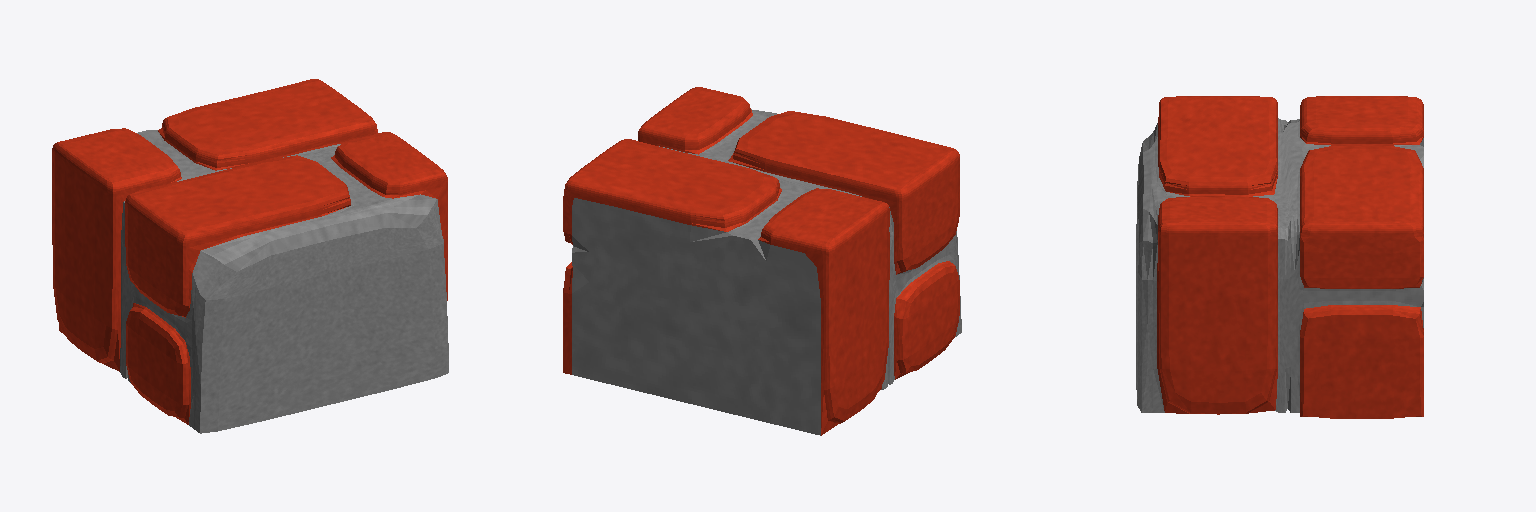
3 renders of one model, left to right at view 1: azimuth 30°, elevation 25°; view 2: azimuth 150°, elevation 25°; view 3: azimuth 270°, elevation 25°, orthographic.
Parts seen in each view (by area): view 1: Cube; view 2: Cube; view 3: Cube.
Part boxes in pixels (bbox=[...]): Cube: bbox=[52, 79, 448, 433]; Cube: bbox=[563, 87, 961, 435]; Cube: bbox=[1136, 96, 1423, 418].
Size of the model in its own units: 1.08 by 0.7395 by 0.9981.
Materials: 1 (1 with a texture image).